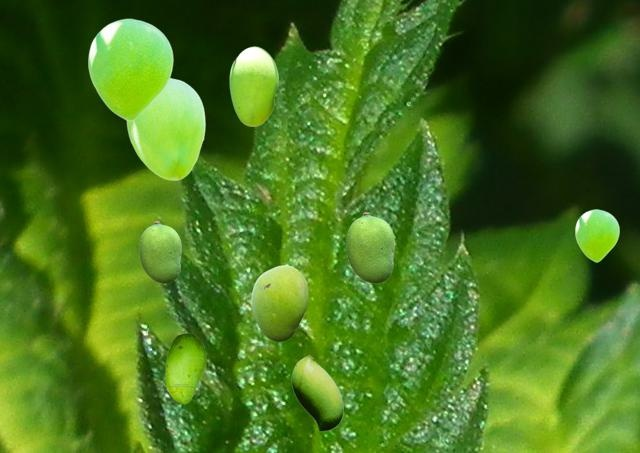green_mango: (88, 18, 172, 120), (126, 77, 204, 179), (251, 265, 307, 340), (291, 355, 342, 430), (229, 46, 277, 125), (346, 212, 393, 282), (164, 333, 205, 403), (139, 221, 180, 282), (575, 209, 618, 261)
